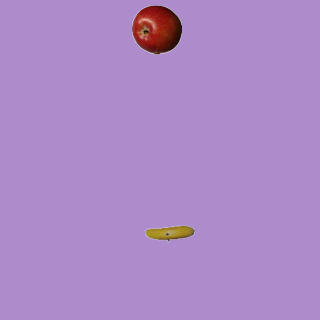Apple Braeburn: (131, 4, 181, 54)
Banana: (144, 208, 194, 258)
